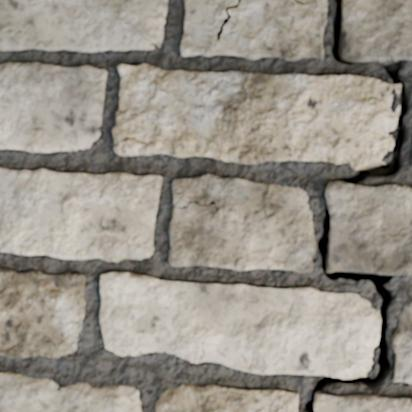brick: (113, 64, 399, 169), (100, 273, 378, 376), (0, 168, 161, 260), (169, 174, 314, 272), (0, 62, 106, 151), (181, 0, 326, 60), (0, 0, 166, 51), (326, 182, 411, 274), (0, 269, 85, 357), (0, 372, 140, 411), (343, 0, 411, 60), (156, 385, 297, 411), (315, 394, 411, 411), (393, 305, 411, 383)
crack: (303, 0, 410, 411), (216, 0, 241, 41), (172, 200, 218, 211), (113, 137, 146, 146), (293, 0, 305, 5)
